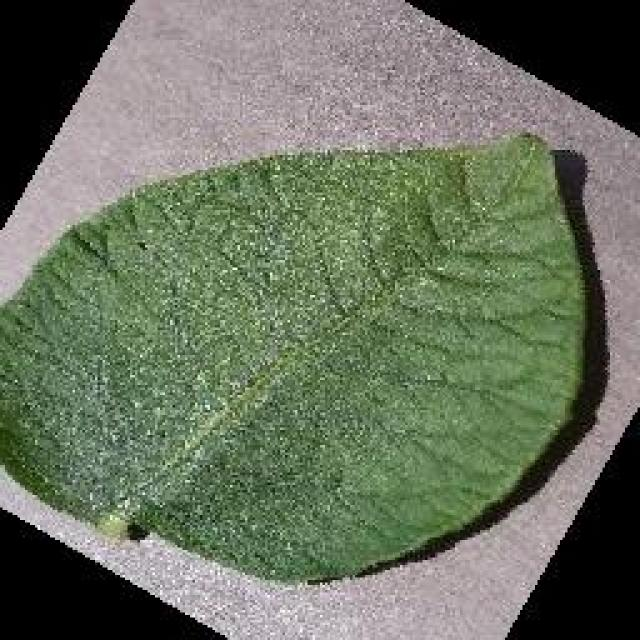Potato___healthy: (0, 131, 589, 588)
